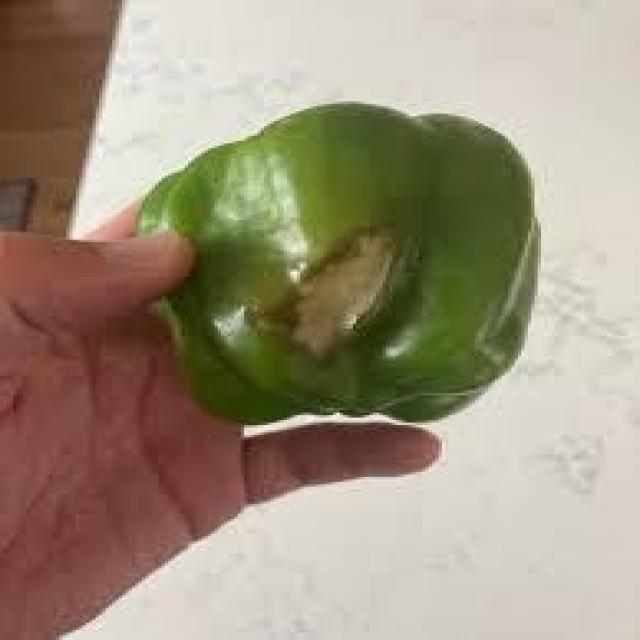Wet Waste: (121, 101, 555, 458)
